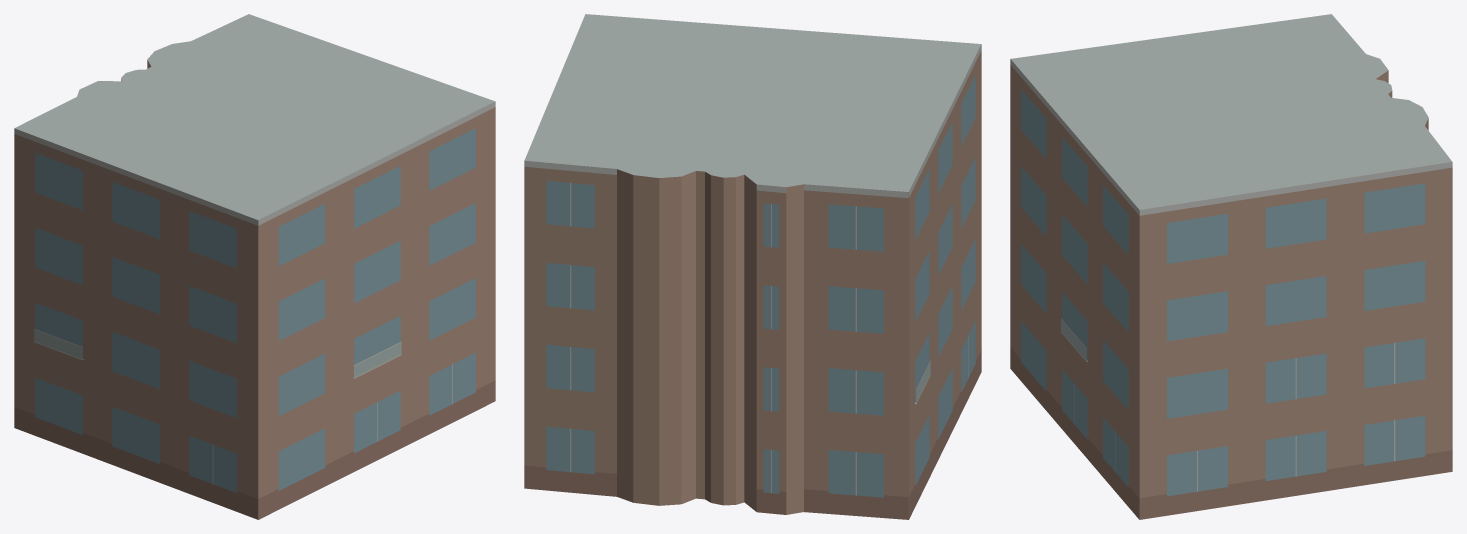
Rendered from survey-upis-32819842.glb.
3 views of the same model, side by side, from view 1: azimuth 30°, elevation 25°; view 2: azimuth 150°, elevation 25°; view 3: azimuth 270°, elevation 25° (orthographic). The views are drawn at different scales.
Parts seen in each view (by area): view 1: survey-upis-32819842.tmp; view 2: survey-upis-32819842.tmp; view 3: survey-upis-32819842.tmp.
Part boxes in pixels (x1,y1,x2,y2): survey-upis-32819842.tmp: (14, 14, 495, 519); survey-upis-32819842.tmp: (524, 14, 981, 519); survey-upis-32819842.tmp: (1010, 14, 1452, 519).
Bounding box in the file's own units: 17.92 × 13.2 × 17.08.
